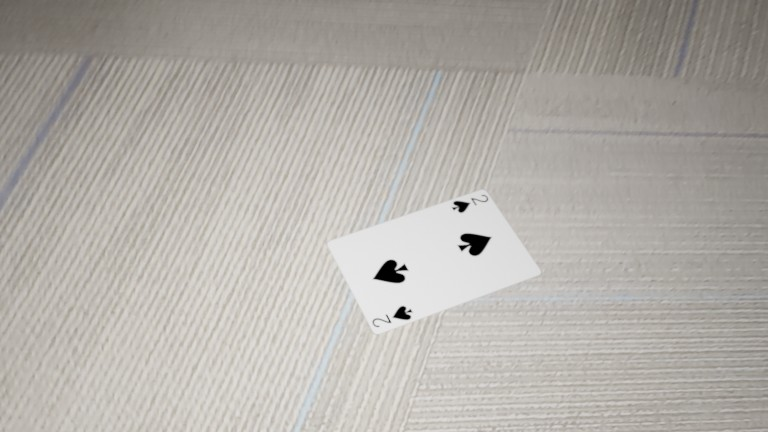2_of_spades: (368, 301, 418, 334), (447, 190, 493, 217)
